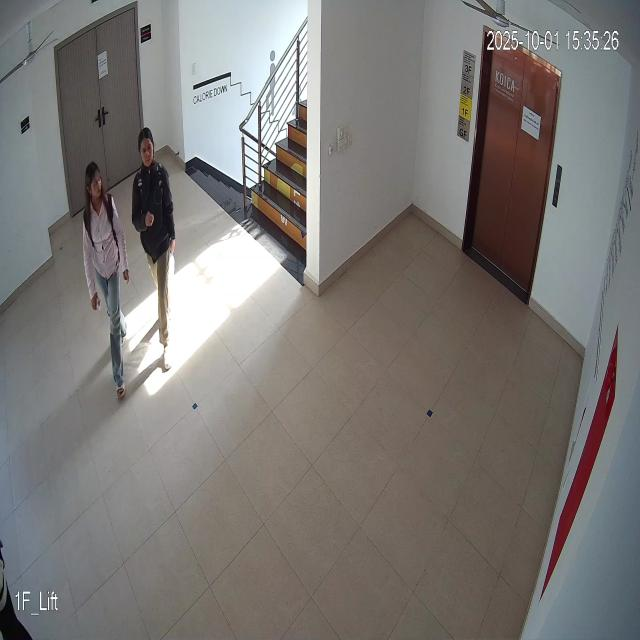face: (136, 126, 158, 175), (84, 159, 106, 203)
